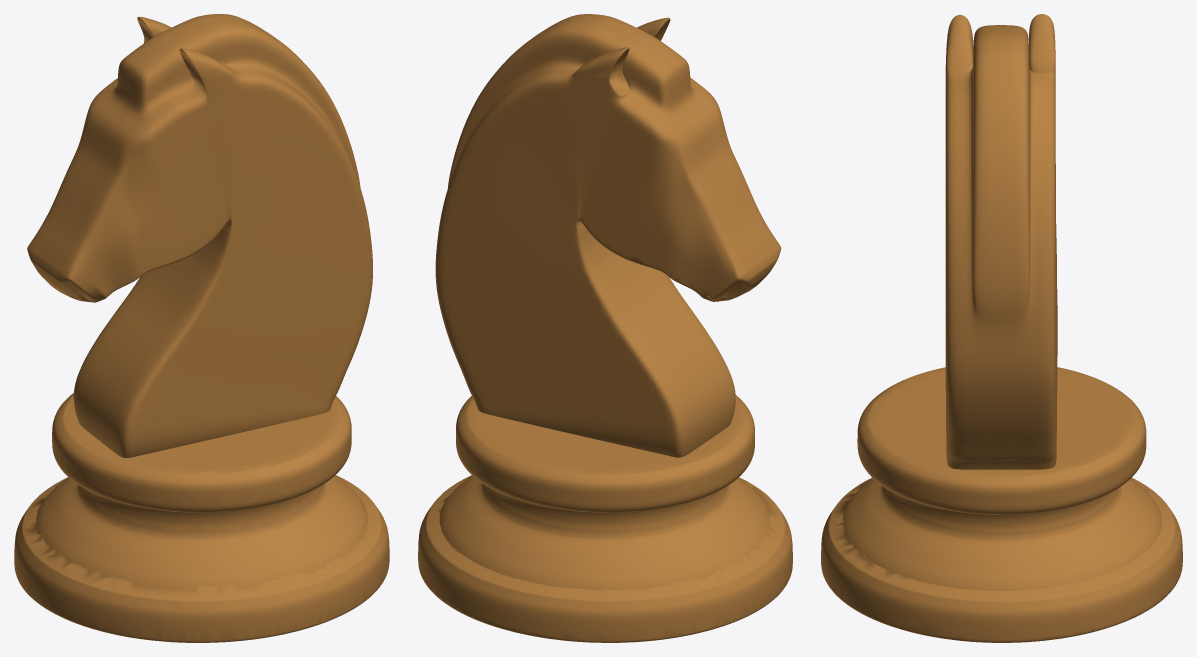
Rendered from gercek3_n_w.glb.
3 renders of one model, left to right at view 1: azimuth 30°, elevation 25°; view 2: azimuth 150°, elevation 25°; view 3: azimuth 270°, elevation 25°, orthographic. The views are drawn at different scales.
Parts seen in each view (by area): view 1: Object_7, Object_8, Object_9; view 2: Object_8, Object_7, Object_9; view 3: Object_8, Object_9, Object_7.
Part boxes in pixels (x1,y1,x2,y2): Object_7: [27, 21, 372, 448]; Object_8: [22, 93, 381, 601]; Object_9: [14, 14, 389, 642]; Object_8: [418, 22, 785, 626]; Object_7: [435, 17, 781, 426]; Object_9: [418, 14, 792, 642]; Object_8: [828, 264, 1182, 638]; Object_9: [821, 14, 1182, 642]; Object_7: [945, 15, 1057, 469].
Bounding box in the file's own units: 1.43 × 2.28 × 1.4.
